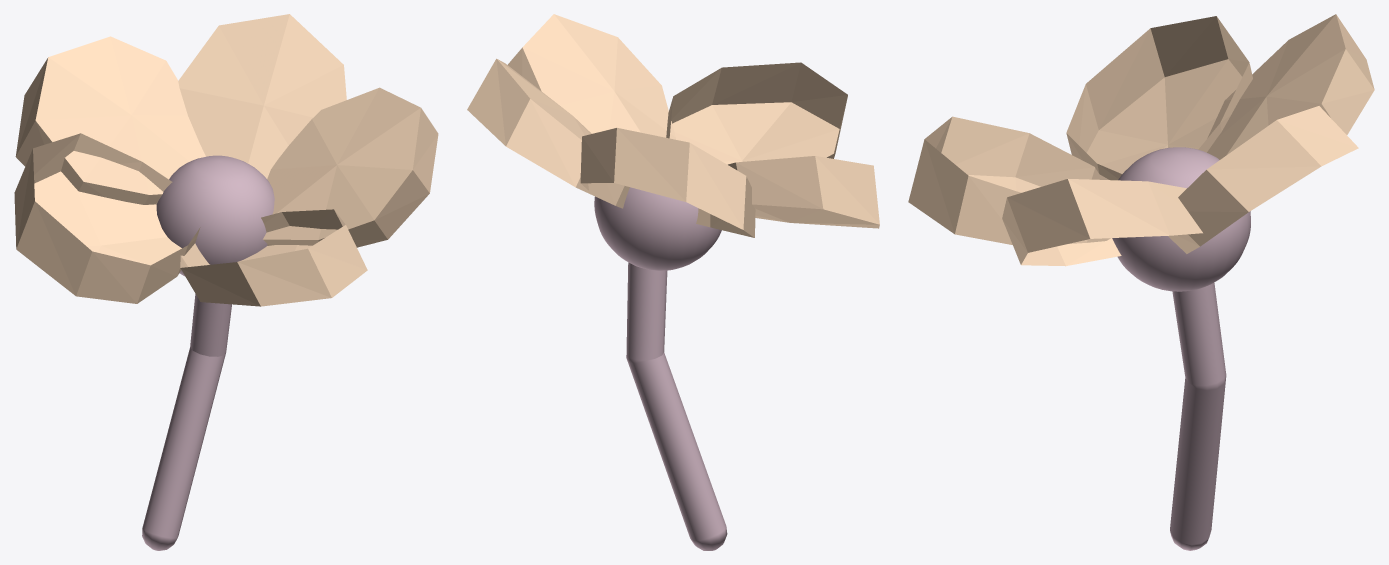
The model's file is daisyn.fbx.
The picture shows the model from 3 angles, left to right: view 1: azimuth 30°, elevation 25°; view 2: azimuth 150°, elevation 25°; view 3: azimuth 270°, elevation 25°; orthographic projection. The views are drawn at different scales.
Parts seen in each view (by area): view 1: s.0034, s.0032, s.0031, s.0035, s.0033, p.0021, s.0046; view 2: s.0033, s.0032, s.0046, s.0034, s.0035, s.0031, p.0021; view 3: s.0031, s.0033, s.0032, s.0034, s.0046, s.0035, p.0021.
Boxes of the visible parts, left/top/right/bottom form: s.0034: left=15, top=36, right=205, bottom=204; s.0032: left=263, top=87, right=438, bottom=247; s.0031: left=14, top=133, right=200, bottom=303; s.0035: left=178, top=14, right=346, bottom=178; s.0033: left=180, top=209, right=367, bottom=306; p.0021: left=156, top=155, right=274, bottom=276; s.0046: left=142, top=294, right=231, bottom=550; s.0033: left=666, top=62, right=847, bottom=164; s.0032: left=508, top=14, right=675, bottom=139; s.0046: left=626, top=262, right=727, bottom=550; s.0034: left=580, top=128, right=755, bottom=237; s.0035: left=467, top=58, right=629, bottom=208; s.0031: left=728, top=156, right=879, bottom=228; p.0021: left=594, top=187, right=721, bottom=270; s.0031: left=1066, top=16, right=1252, bottom=180; s.0033: left=908, top=116, right=1110, bottom=244; s.0032: left=1002, top=179, right=1202, bottom=266; s.0034: left=1207, top=14, right=1374, bottom=159; s.0046: left=1170, top=283, right=1226, bottom=550; s.0035: left=1168, top=106, right=1358, bottom=253; p.0021: left=1112, top=147, right=1250, bottom=291.
Bounding box in the file's own units: 16.69 × 15.51 × 19.11.
